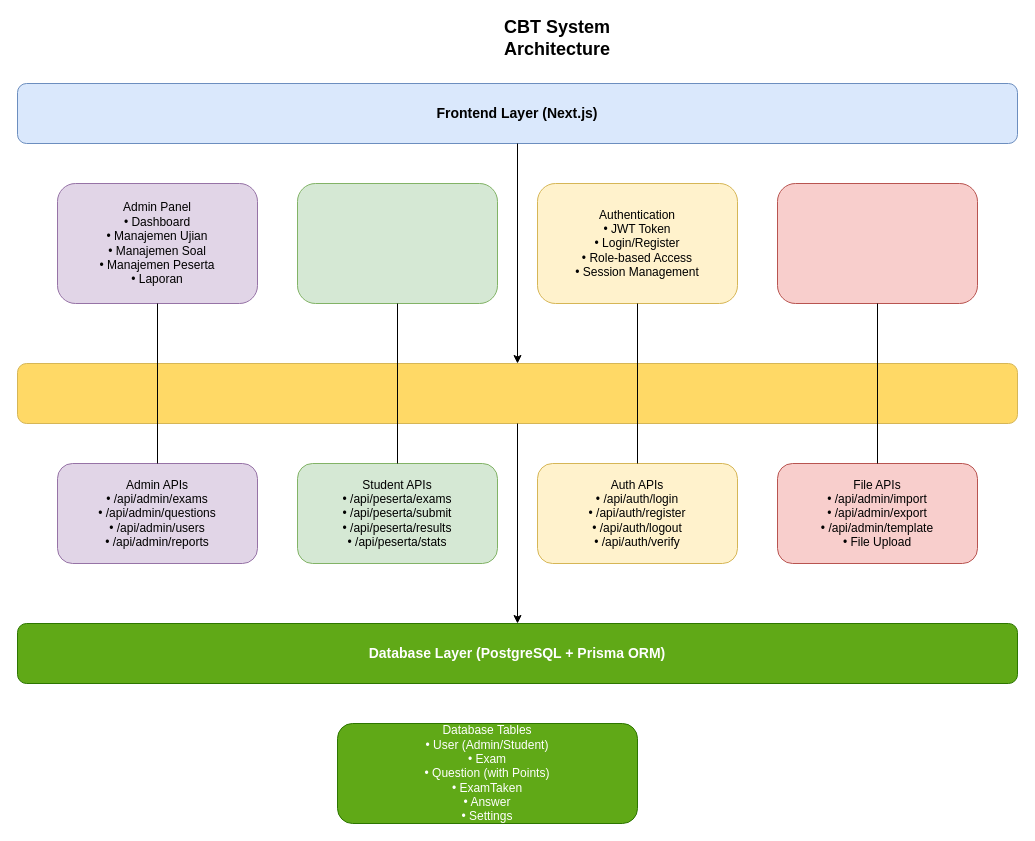
The diagram is 1035 pixels wide and 841 high, and some of its shapes have lost their labels. Each missing label, with the box of its shape:
API Layer (Next.js API Routes): (16, 362, 1018, 424)
Shared Components • UI Components • Forms • Modals • Charts: (776, 182, 978, 304)
Student Portal • Dashboard Peserta • Ujian Online • Hasil Ujian • Profil: (296, 182, 498, 304)
